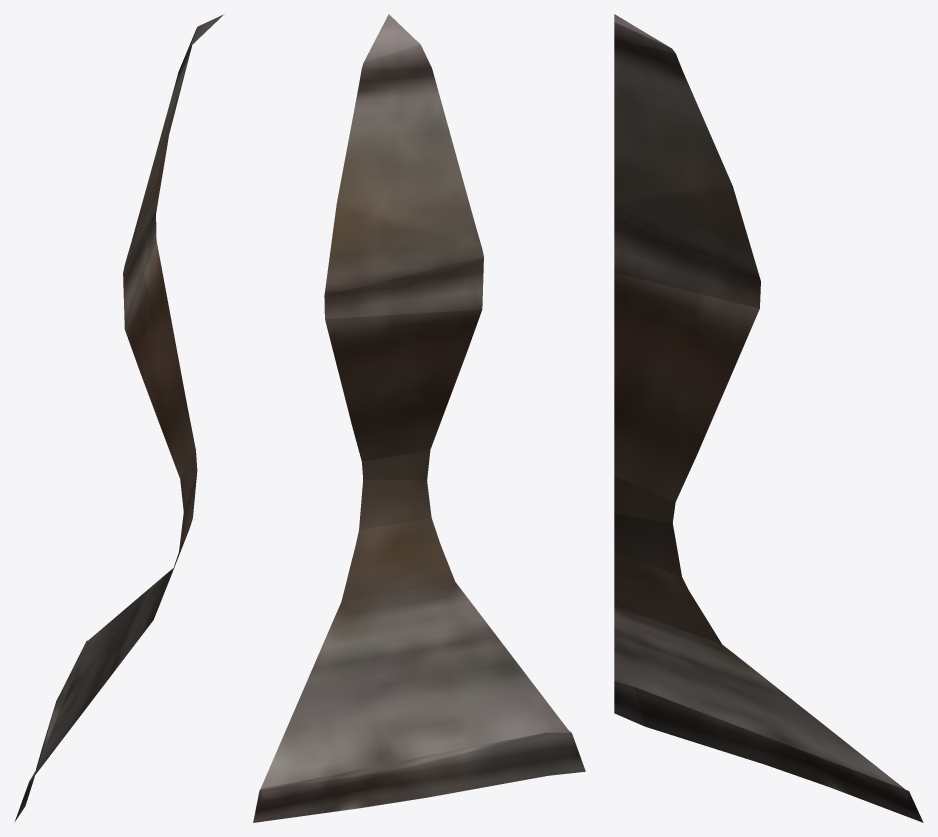
The picture shows the model from 3 angles, left to right: view 1: azimuth 30°, elevation 25°; view 2: azimuth 150°, elevation 25°; view 3: azimuth 270°, elevation 25°; orthographic projection. The views are drawn at different scales.
Size of the model in its own units: 0.0752 by 0.2587 by 0.0896.
Materials: 1 (1 with a texture image).
